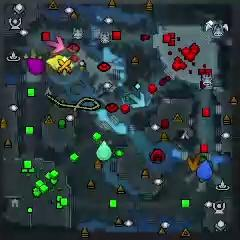Other: (56, 57, 74, 76)
p1: (196, 161, 213, 181)
p2: (96, 140, 112, 161)
p3: (26, 58, 45, 75)
p4: (47, 56, 67, 72)
x1: (46, 36, 65, 54)
x2: (25, 47, 42, 61)
x3: (130, 92, 145, 110)
x5: (187, 154, 200, 172)
